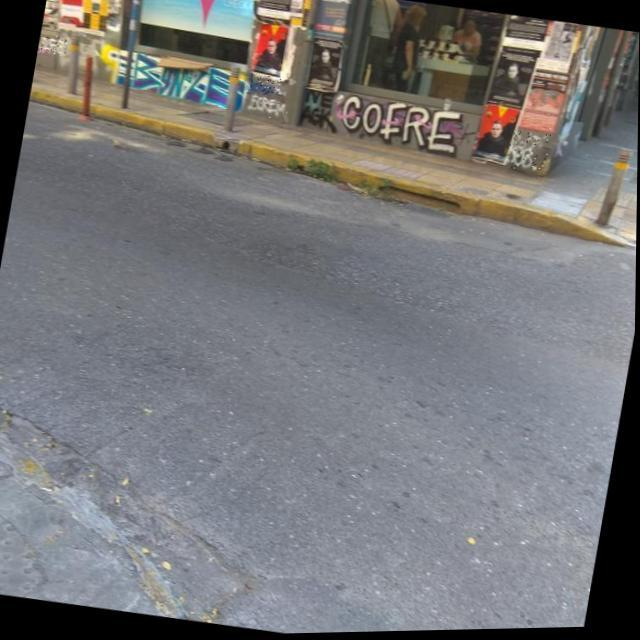-: (334, 89, 466, 162), (506, 129, 552, 176), (246, 94, 290, 122), (244, 74, 282, 100), (37, 32, 70, 58)
